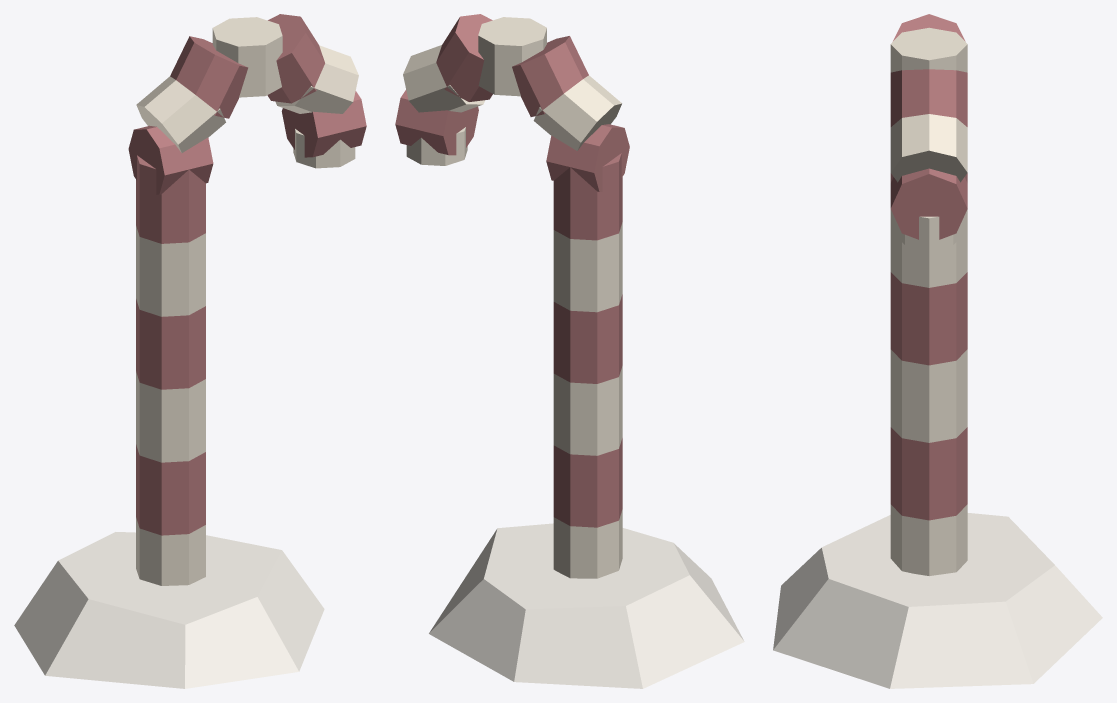
File: sb_candy_cane_hook.glb
3 renders of one model, left to right at view 1: azimuth 30°, elevation 25°; view 2: azimuth 150°, elevation 25°; view 3: azimuth 270°, elevation 25°, orthographic. The views are drawn at different scales.
Parts seen in each view (by area): view 1: candy_cane_hook; view 2: candy_cane_hook; view 3: candy_cane_hook.
Part boxes in pixels (bbox=[...]): candy_cane_hook: bbox=[14, 14, 366, 688]; candy_cane_hook: bbox=[395, 14, 744, 688]; candy_cane_hook: bbox=[773, 14, 1102, 688].
Size of the model in its own units: 0.4645 by 0.8067 by 0.3858.
